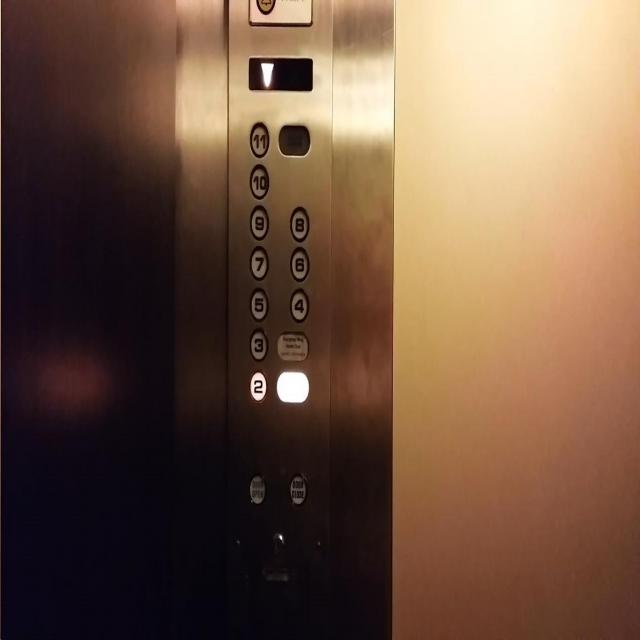10: (250, 162, 269, 199)
11: (249, 119, 270, 157)
2: (249, 371, 266, 401)
3: (249, 327, 268, 358)
4: (289, 286, 310, 322)
5: (250, 287, 268, 320)
6: (290, 245, 309, 283)
7: (250, 245, 268, 278)
8: (290, 204, 309, 242)
9: (249, 202, 269, 240)
led: (248, 55, 313, 91)
text: (288, 471, 307, 507), (248, 473, 267, 505)
